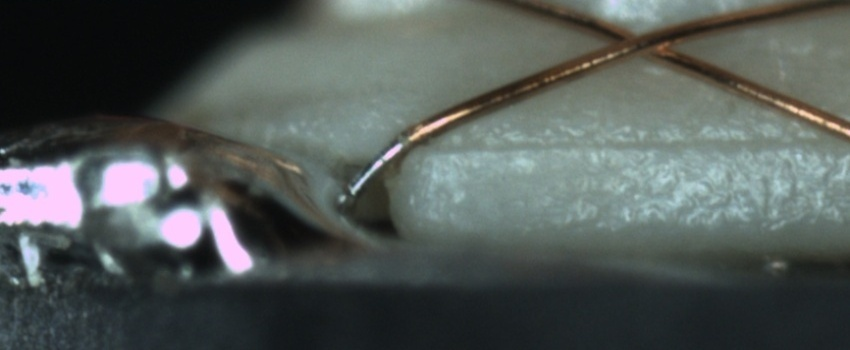CL: (595, 17, 690, 67)
DL: (427, 111, 849, 176)
TS: (342, 133, 410, 204)
